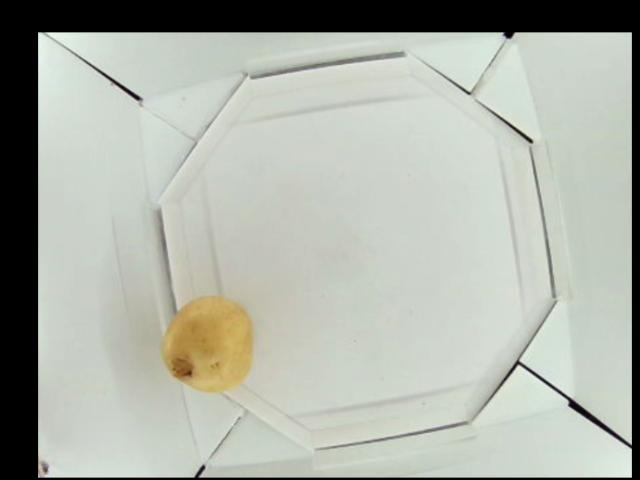Potato: (154, 294, 252, 395)
